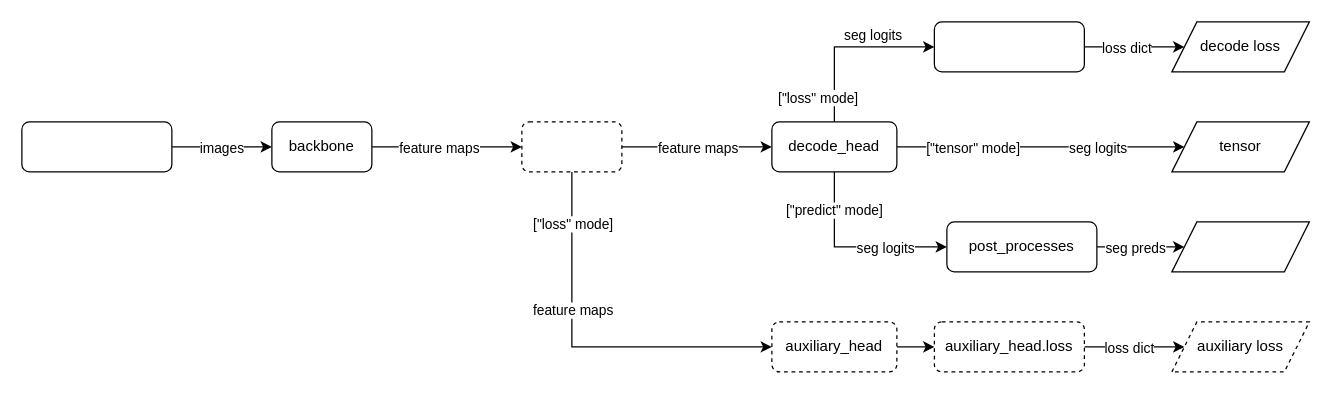
The diagram is 1331 pixels wide and 394 high, and some of its shapes have lost their labels. Each missing label, with the centre of its shape:
"data_preprocessor" belongs at point 96,146.
"decode_head.loss" belongs at point 1008,46.
"mask" belongs at point 1240,246.
"neck" belongs at point 571,146.
